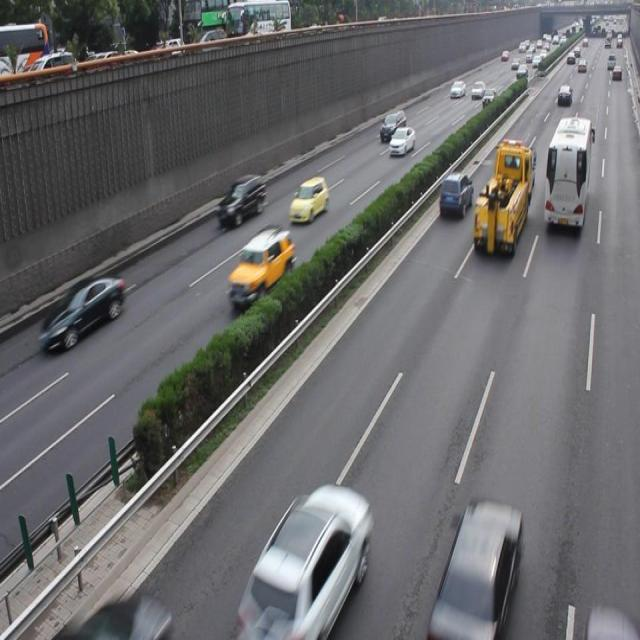bus: (472, 138, 530, 253)
car: (243, 484, 370, 640), (429, 499, 522, 640), (39, 274, 125, 352), (228, 224, 293, 309), (288, 176, 328, 221), (438, 171, 472, 219)
truck: (218, 173, 265, 228)
van: (543, 116, 590, 229)
